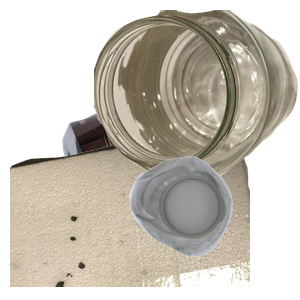glass: (94, 10, 300, 184)
metal: (60, 79, 300, 259)
plastic: (127, 154, 300, 300)
trash: (10, 120, 250, 300)
